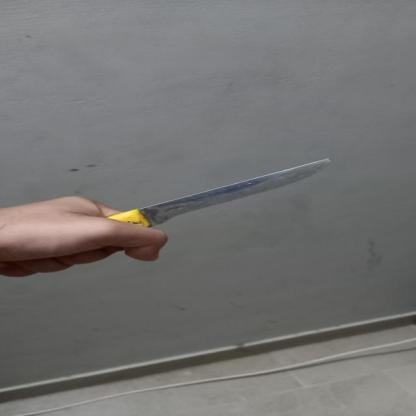Knife: (76, 148, 335, 242)
